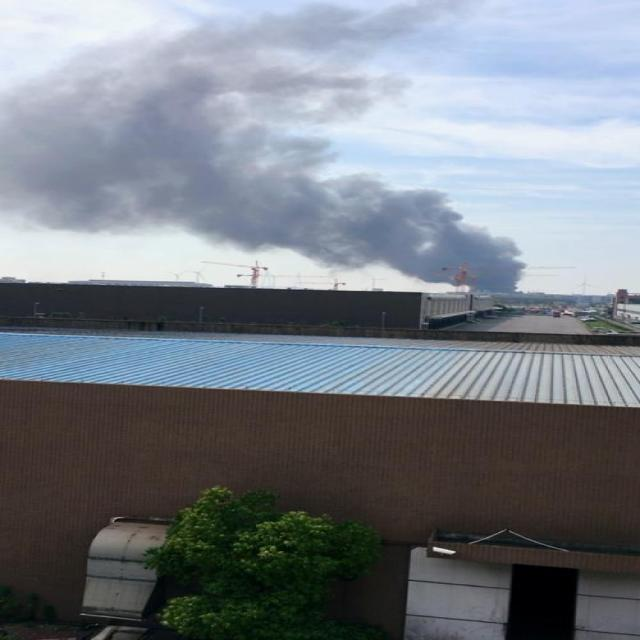Smoke: (0, 48, 521, 292)
